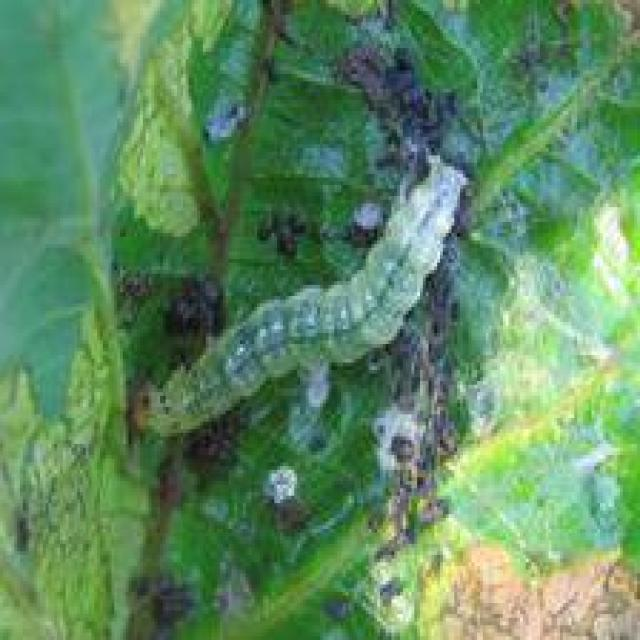BeetArmyWorm-Larva-: (133, 150, 474, 443)
